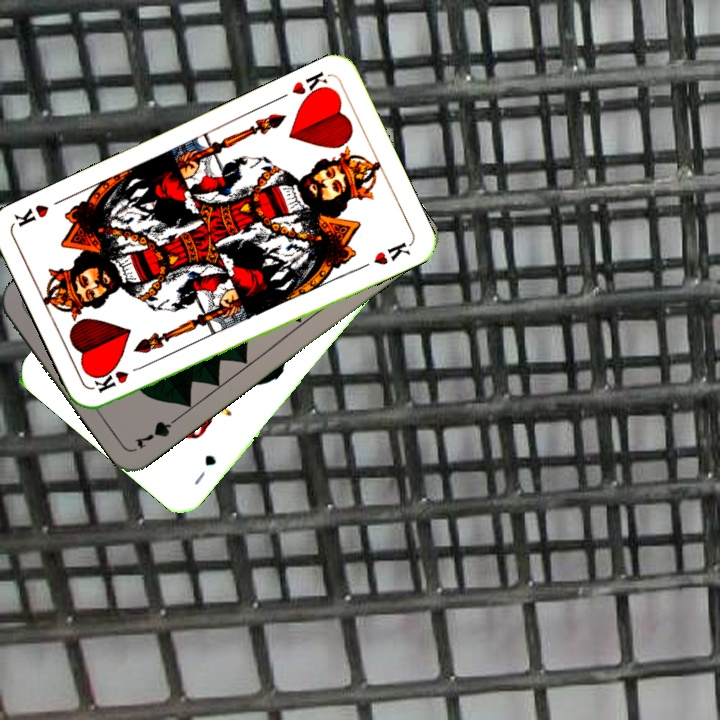G7: (130, 411, 184, 452)
GU: (190, 450, 219, 488)
HK: (90, 360, 148, 396), (288, 67, 334, 104)
